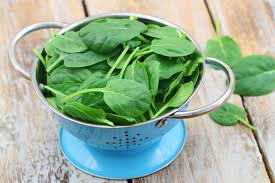spinach: (54, 25, 172, 106), (236, 51, 273, 97)
